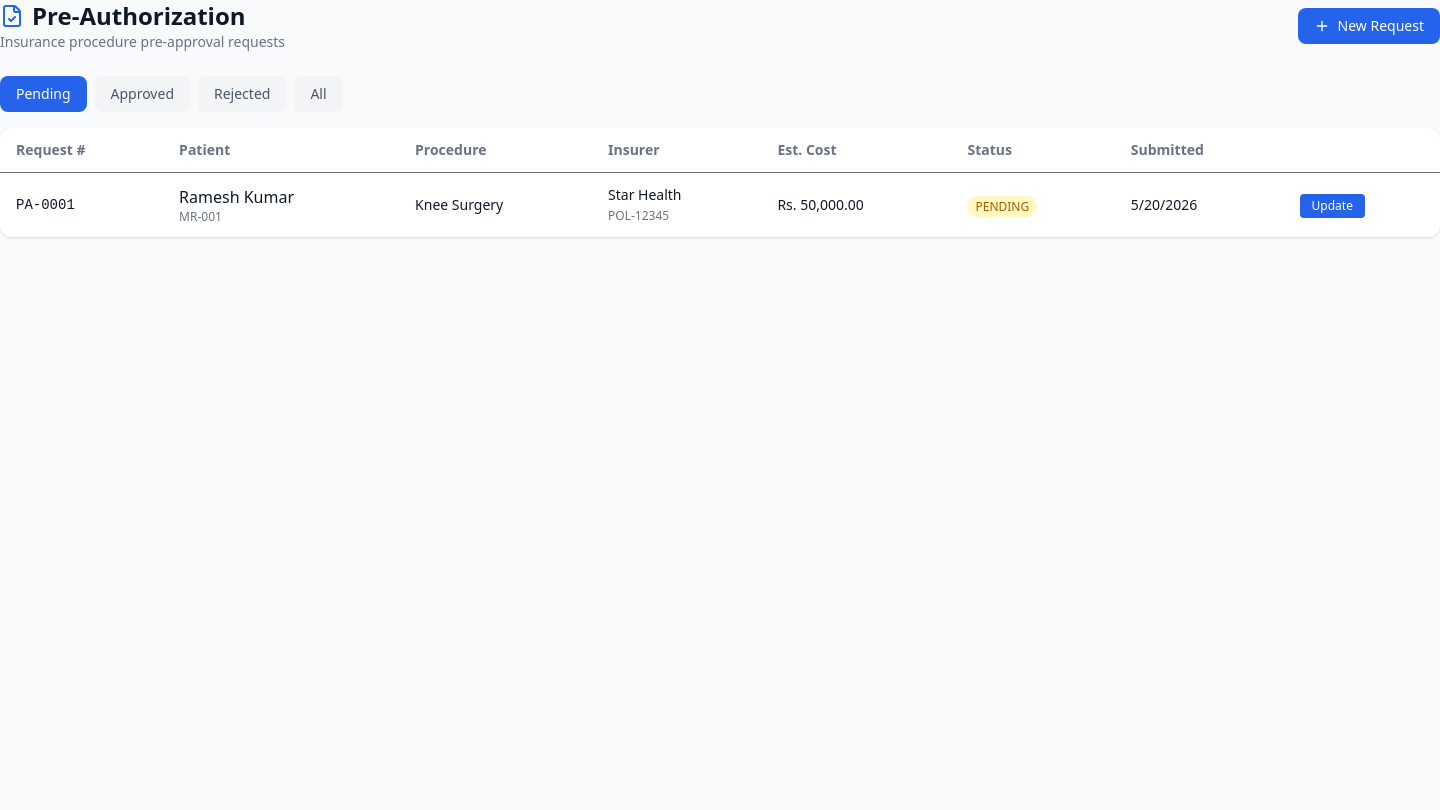
Test case: PreAuth dashboard page (insurance pre-authorisation queue) › UpdateStatusModal APPROVED happy path PATCHes /preauth/:id/status
The image size is (1440, 810).
Expected: the text "PA-0001" is shown, [0,172,163,237]
Click the button "Update".
click(1332, 206)  # box [1300,194,1365,218]
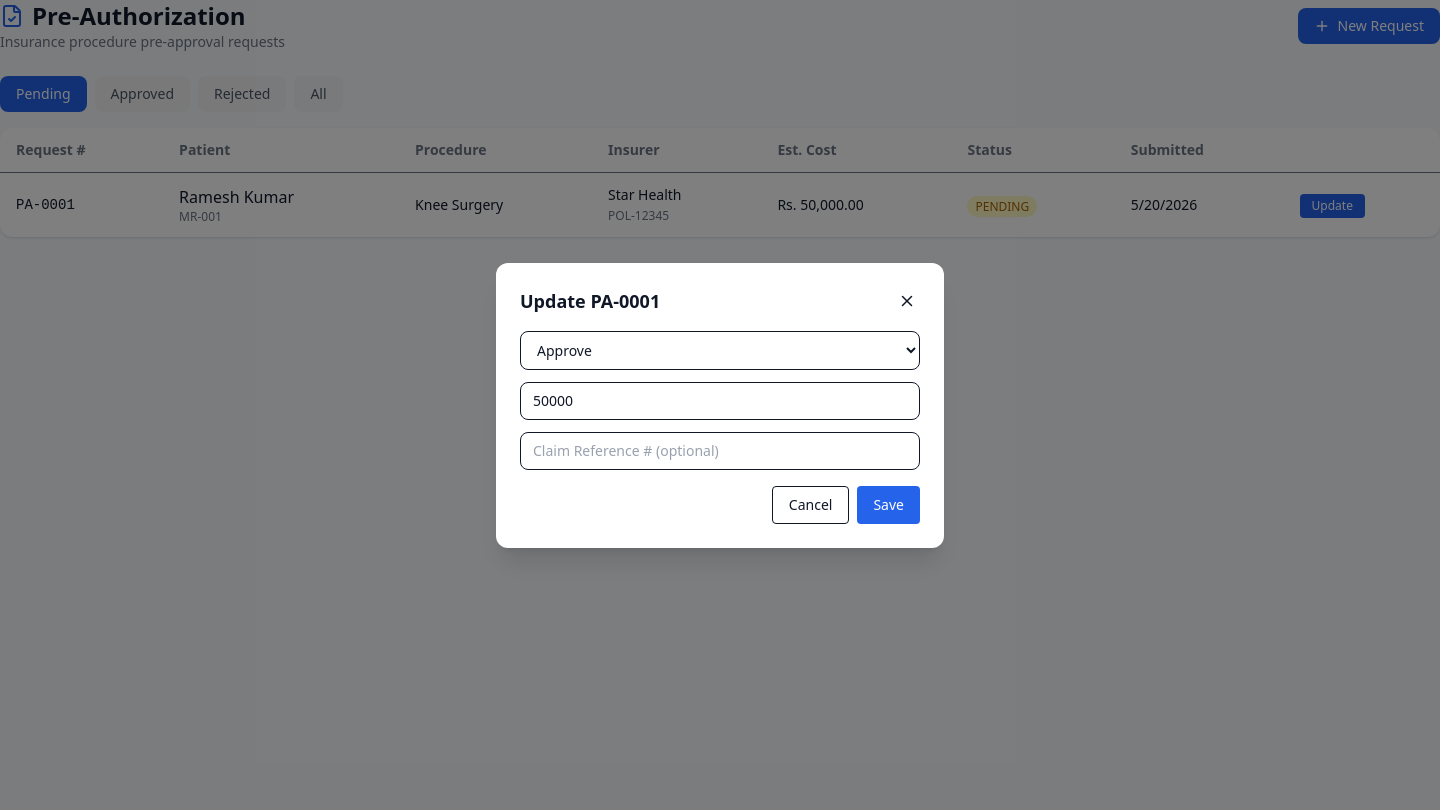
Type "CLAIM-9" into the field with placeholder "Claim Reference # (optional)".
click(720, 450); type("CLAIM-9")  # box [520,432,920,470]
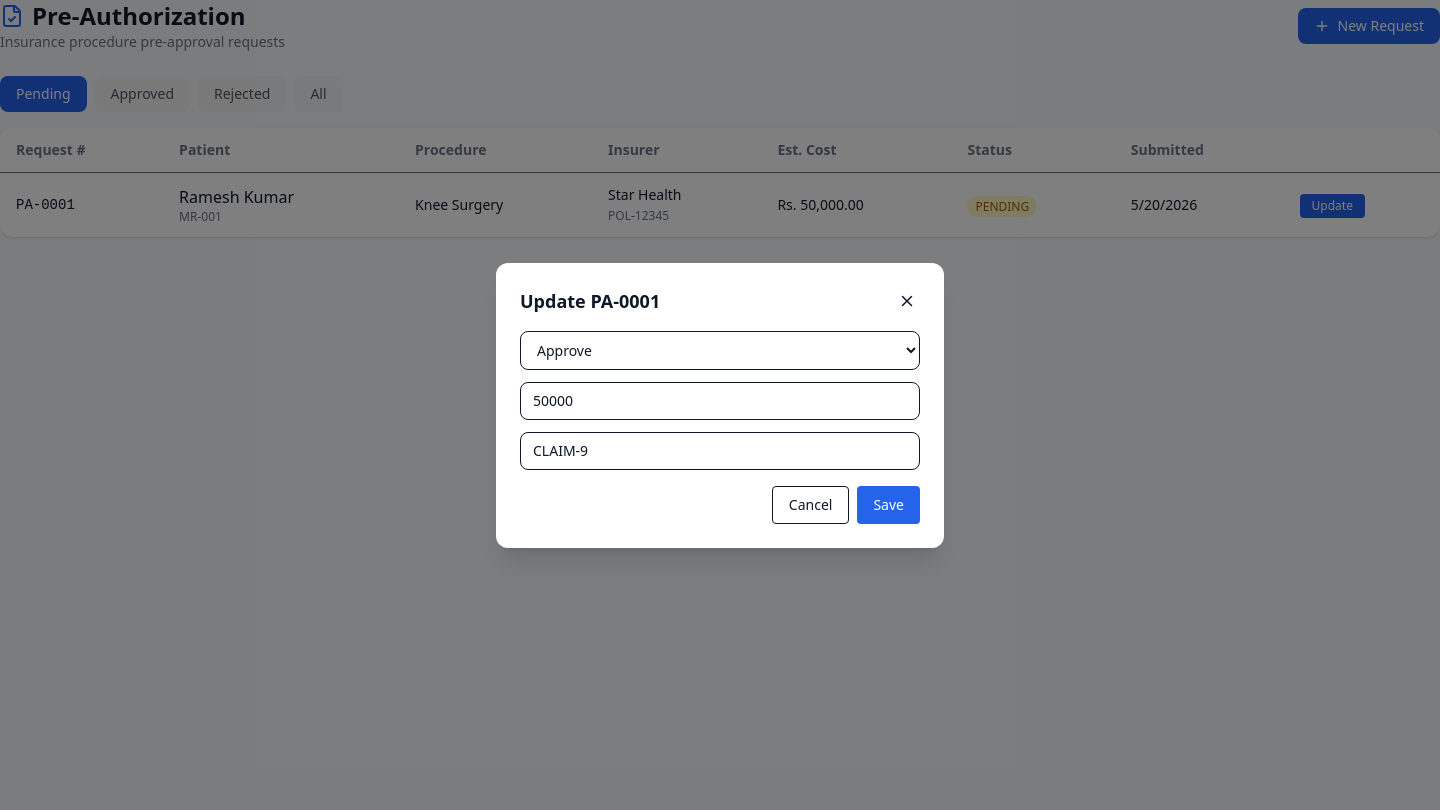
Click the button "Save".
click(889, 504)  # box [857,486,920,524]
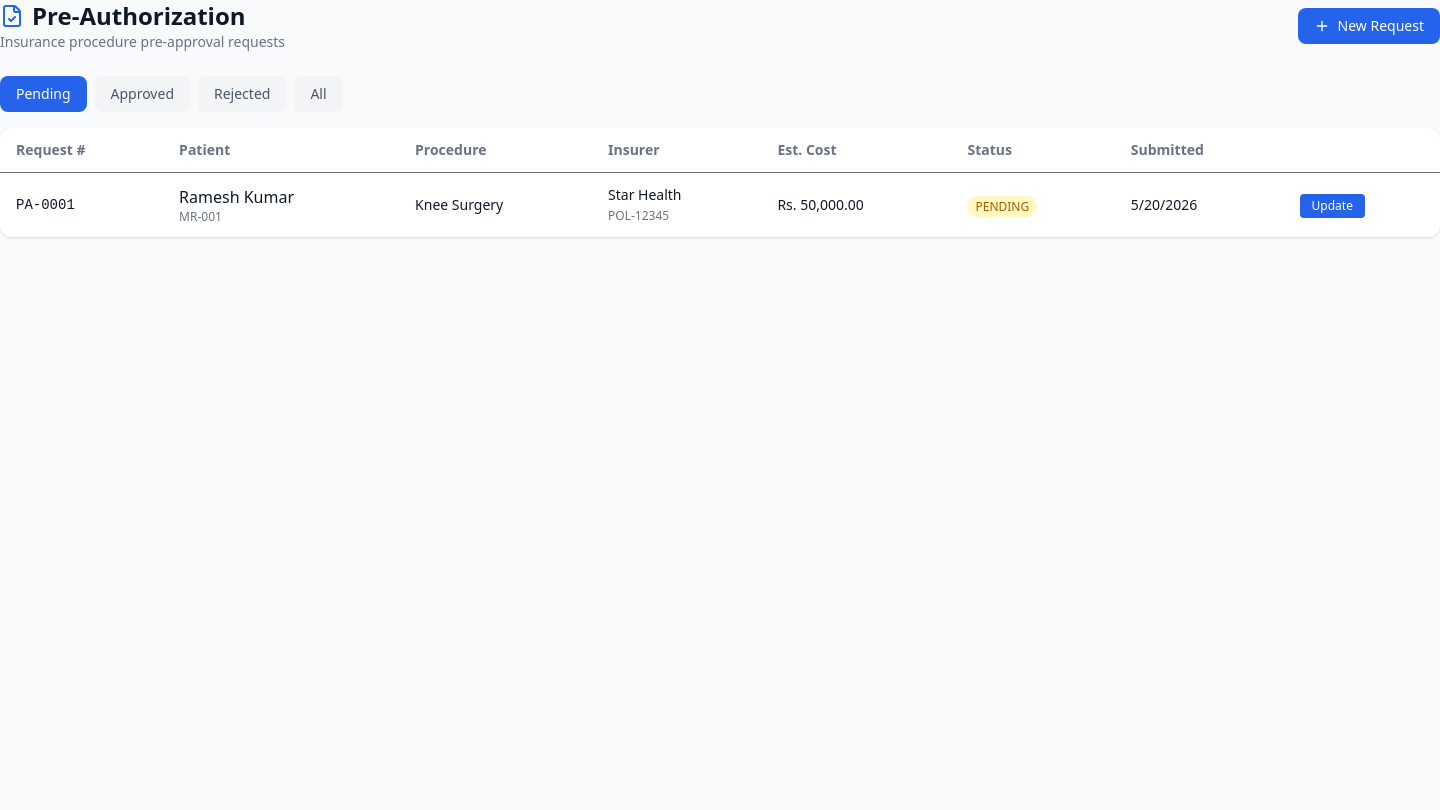
Expected: the heading "Update PA-0001" is gone
